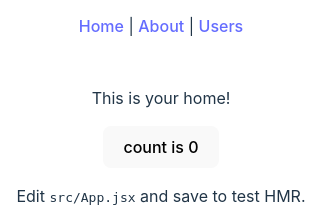
Test: App Routing › navigates to the about page and shows about content
The image size is (322, 222).
Click the link "About".
click(161, 26)  # box [138, 16, 184, 36]
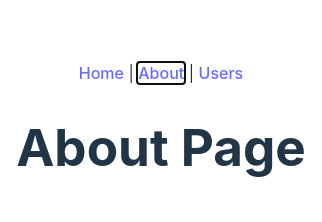
Expected: the heading "About Page" is shown, [16, 119, 306, 175]
